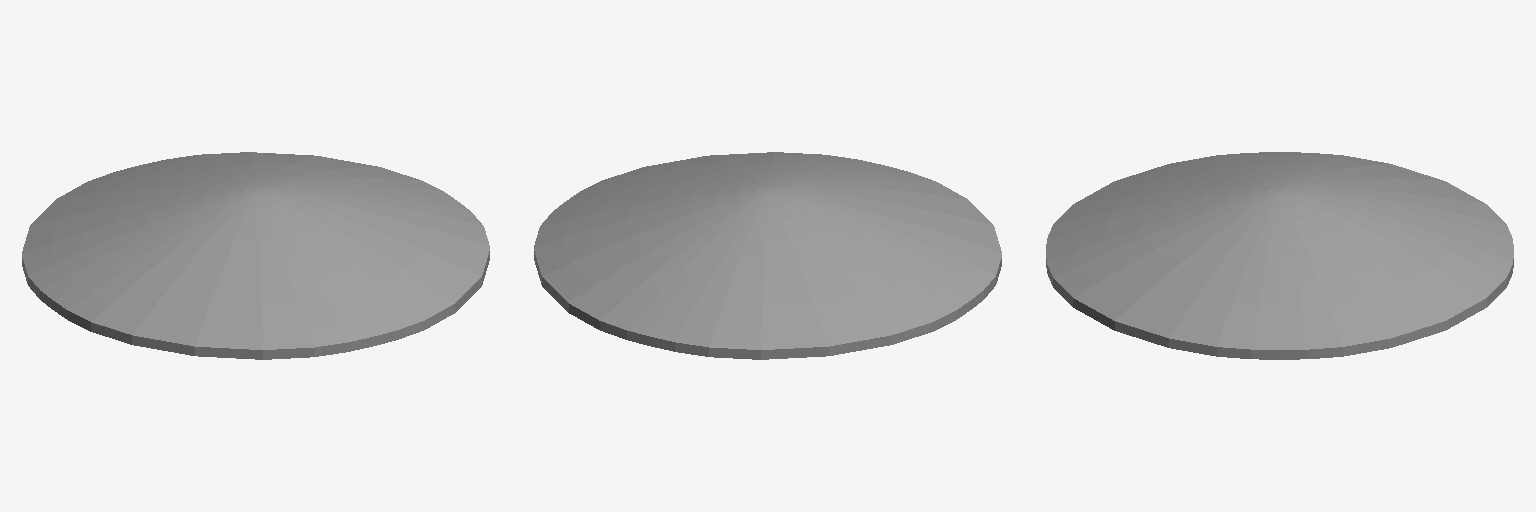
Rendered from ufo5.obj.
3 views of the same model, side by side, from view 1: azimuth 30°, elevation 25°; view 2: azimuth 150°, elevation 25°; view 3: azimuth 270°, elevation 25° (orthographic).
Parts seen in each view (by area): view 1: ufo4_CUSurfSphere; view 2: ufo4_CUSurfSphere; view 3: ufo4_CUSurfSphere.
Part boxes in pixels (x1,y1,x2,y2): ufo4_CUSurfSphere: (22,152,489,359); ufo4_CUSurfSphere: (534,152,1001,359); ufo4_CUSurfSphere: (1046,152,1513,359).
Size of the model in its own units: 7.54 by 2.29 by 7.54.